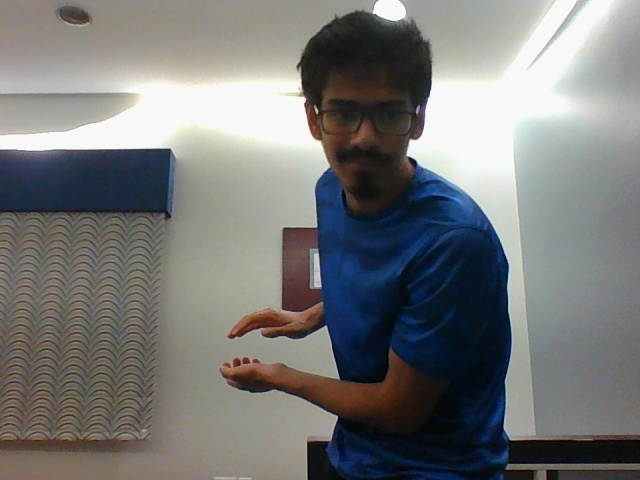charge: (207, 296, 302, 398)
